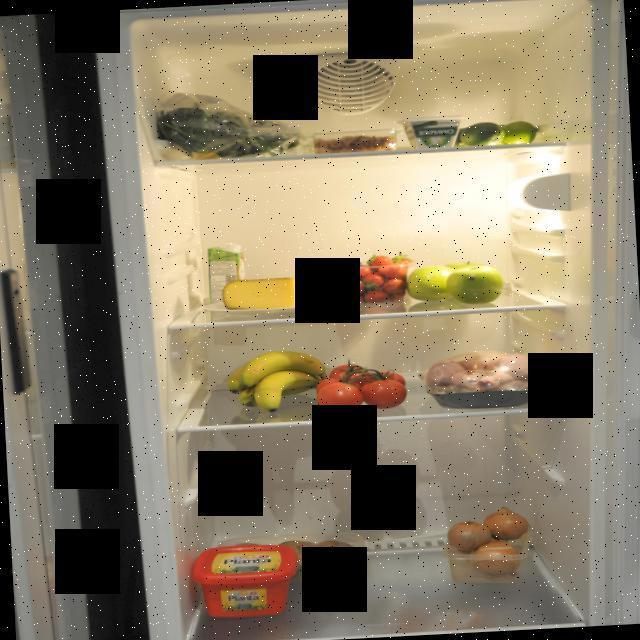apple: (407, 257, 508, 309)
banana: (221, 350, 332, 418)
butter: (190, 538, 305, 624)
cheese: (218, 274, 302, 316)
chicken breast: (416, 345, 550, 412)
goat_cheese: (395, 114, 470, 154)
heavy_cream: (206, 239, 250, 307)
lime: (456, 118, 544, 146)
onion: (446, 504, 544, 584)
potato: (271, 528, 369, 580)
shrimp: (309, 134, 397, 156)
spinach: (148, 84, 308, 164)
strawberries: (330, 250, 418, 306)
tomato: (309, 356, 412, 416)
